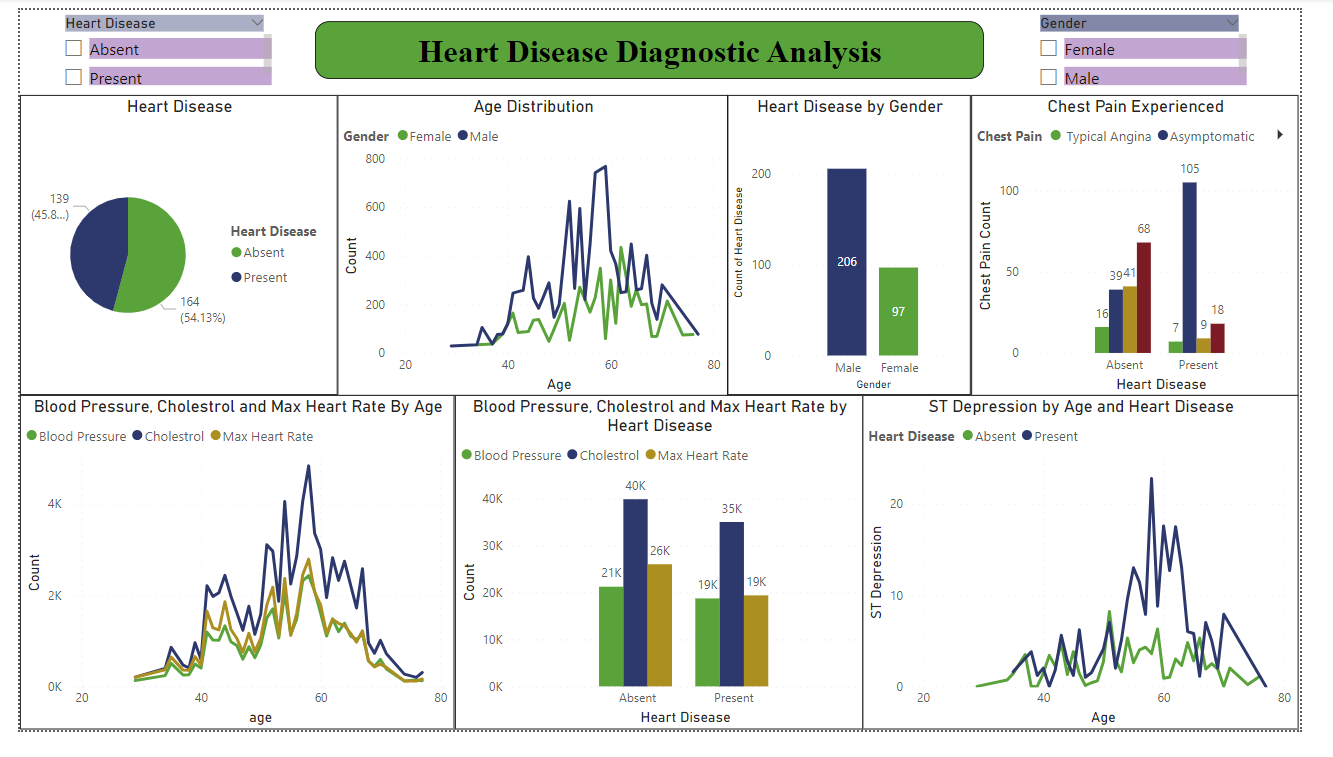

This screenshot's page, from the dashboard's own definition file:
{"tool":"powerbi","page":{"name":"Dashboard","canvas":[1280,720],"ordinal":0},"visuals":[{"type":"columnChart","title":"Heart Disease by Gender","fields":{"Category":["heart_disease_dataset.Gender"],"Y":["CountNonNull(heart_disease_dataset.Heart Disease)"],"Series":["heart_disease_dataset.Gender"]},"box":[708.1,84.8,243.6,299.7],"z":0},{"type":"pieChart","title":"Heart Disease","fields":{"Y":["CountNonNull(heart_disease_dataset.Heart Disease)"],"Category":["heart_disease_dataset.Heart Disease"]},"box":[0,84.8,317.6,299.7],"z":1000},{"type":"lineChart","title":"Age Distribution","fields":{"Category":["heart_disease_dataset.age"],"Y":["Sum(heart_disease_dataset.age)"],"Series":["heart_disease_dataset.Gender"]},"box":[317.6,84.8,390.4,300.9],"z":2000},{"type":"clusteredColumnChart","title":"Chest Pain Experienced","fields":{"Category":["heart_disease_dataset.Heart Disease"],"Y":["CountNonNull(heart_disease_dataset.chest pain)"],"Series":["heart_disease_dataset.chest pain"]},"box":[951.6,84.8,327.2,300.9],"z":3000},{"type":"lineChart","title":"Blood Pressure, Cholestrol and Max Heart Rate By Age","fields":{"Y":["Sum(heart_disease_dataset.Blood Pressure)","Sum(heart_disease_dataset.chol)","Sum(heart_disease_dataset.thalach)"],"Category":["heart_disease_dataset.age"]},"box":[0,384.5,434.6,334.3],"z":4000},{"type":"clusteredColumnChart","title":"Blood Pressure, Cholestrol and Max Heart Rate by Heart Disease","fields":{"Category":["heart_disease_dataset.Heart Disease"],"Y":["Sum(heart_disease_dataset.trestbps)","Sum(heart_disease_dataset.chol)","Sum(heart_disease_dataset.thalach)"]},"box":[434.6,384.5,408.4,334.3],"z":5000},{"type":"lineChart","title":"ST Depression by Age and Heart Disease","fields":{"Category":["heart_disease_dataset.age"],"Series":["heart_disease_dataset.Heart Disease"],"Y":["Sum(heart_disease_dataset.oldpeak)"]},"box":[843,384.5,435.8,334.3],"z":6000},{"type":"slicer","fields":{"Values":["heart_disease_dataset.Gender"]},"box":[1008,0,224,80],"z":7000},{"type":"slicer","fields":{"Values":["heart_disease_dataset.Heart Disease"]},"box":[32,0,224,80],"z":8000},{"type":"textbox","box":[294.9,10.7,668.7,57.3],"z":9000}]}

Visuals, with their boxes in screenshot pixels (x1, y1, x2, y2), scaled from the page's 1280x720 canvas onto the 1333x757 screenshot:
"Heart Disease by Gender" columnChart: <box>737,89,991,404</box>
"Heart Disease" pieChart: <box>0,89,331,404</box>
"Age Distribution" lineChart: <box>331,89,737,406</box>
"Chest Pain Experienced" clusteredColumnChart: <box>991,89,1332,406</box>
"Blood Pressure, Cholestrol and Max Heart Rate By Age" lineChart: <box>0,404,453,756</box>
"Blood Pressure, Cholestrol and Max Heart Rate by Heart Disease" clusteredColumnChart: <box>453,404,878,756</box>
"ST Depression by Age and Heart Disease" lineChart: <box>878,404,1332,756</box>
slicer - heart_disease_dataset.Gender: <box>1050,0,1283,84</box>
slicer - heart_disease_dataset.Heart Disease: <box>33,0,267,84</box>
textbox: <box>307,11,1003,71</box>
